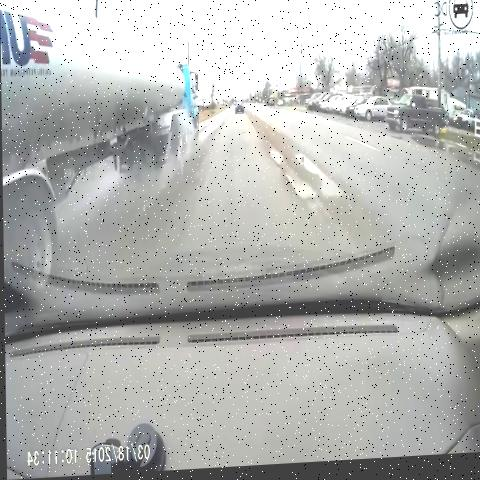pothole: (258, 137, 343, 219), (236, 127, 248, 142)
